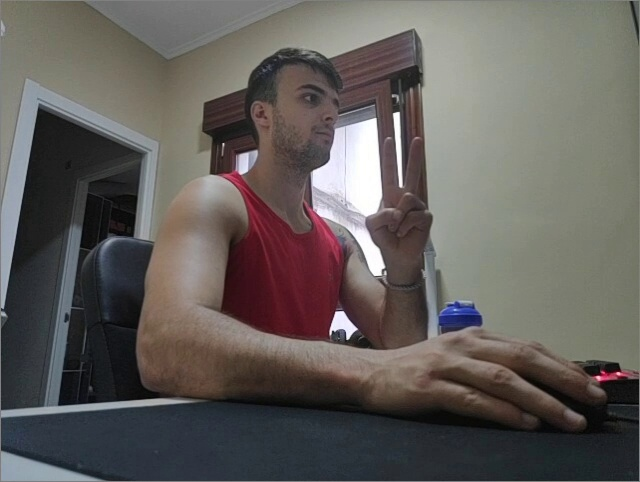Peace: (365, 131, 433, 268)
